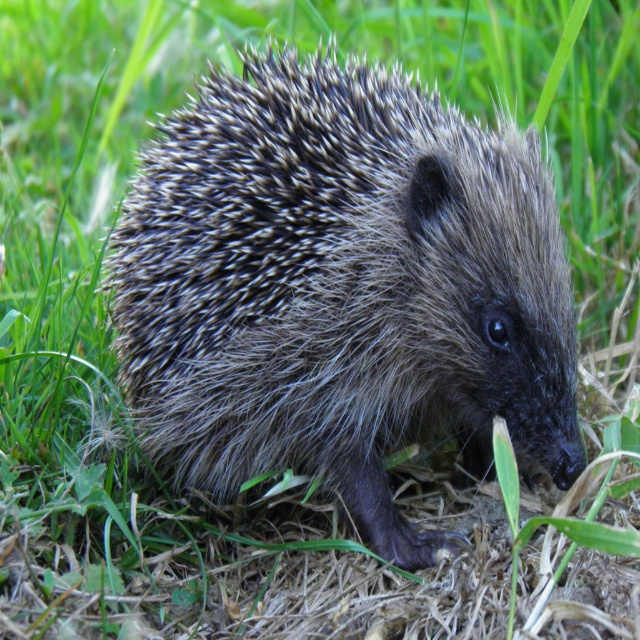Hedgehog: (94, 27, 636, 578)
